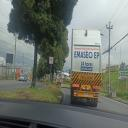speed_limit_50: (49, 56, 54, 65)
